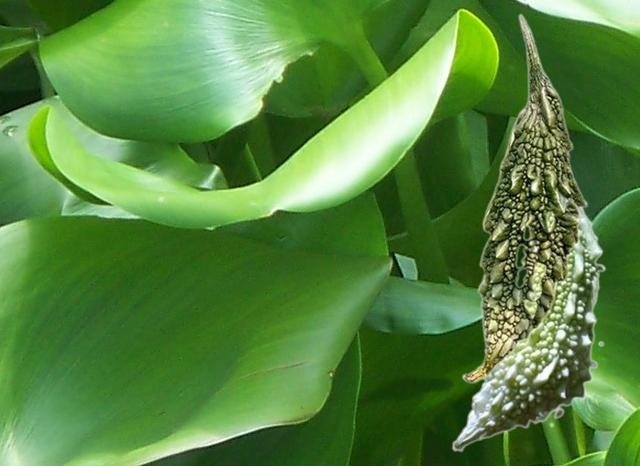ampalaya: (461, 12, 587, 382), (451, 209, 605, 451)
